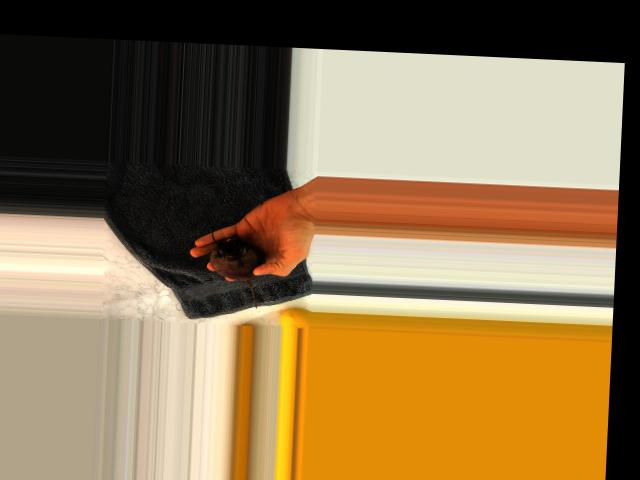beet: (208, 235, 266, 308)
